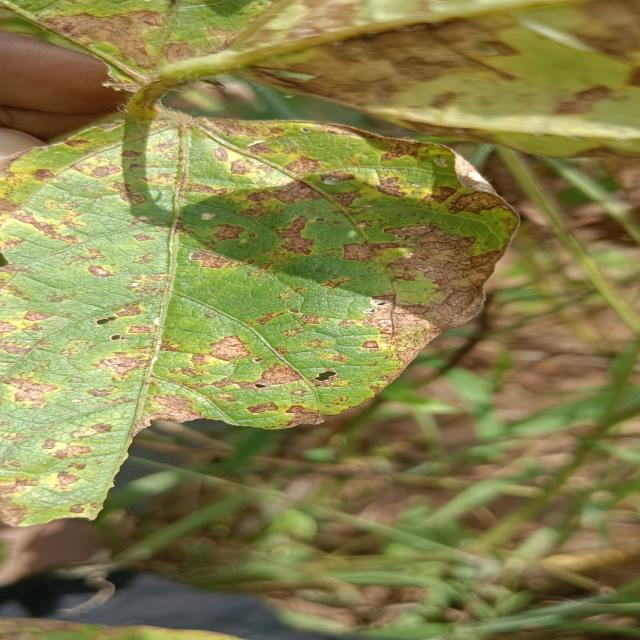Black gram_leaf spot: (0, 104, 512, 537), (231, 0, 640, 143)
